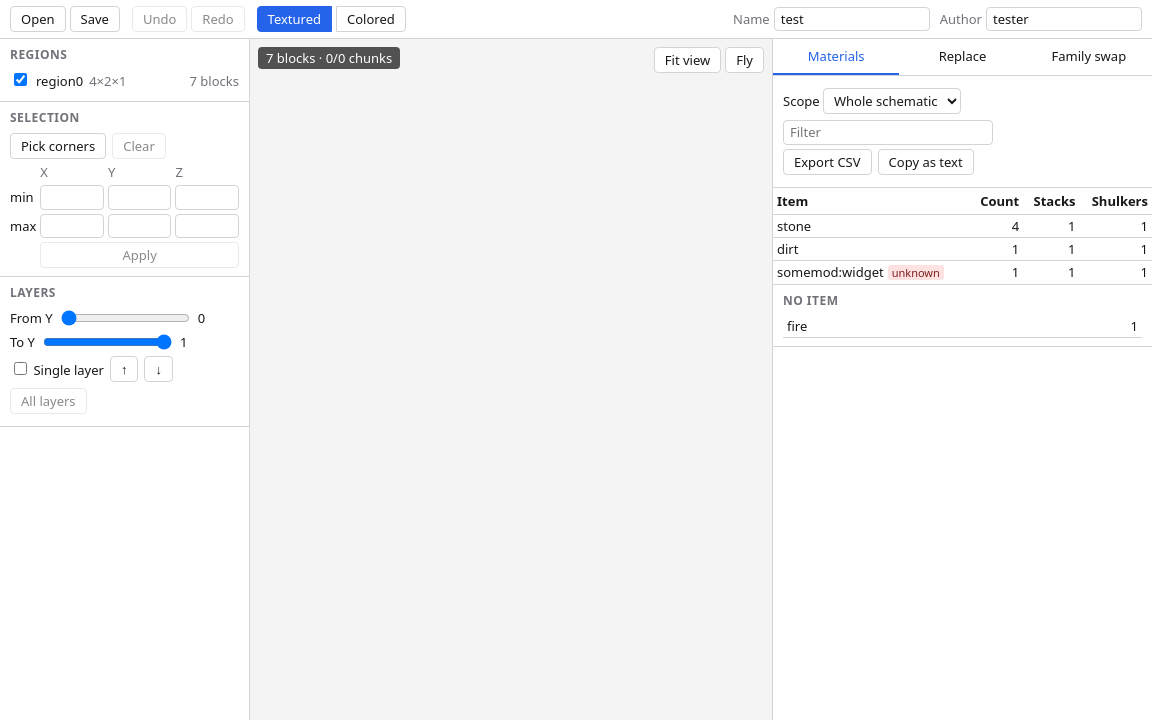
Materials tab › says so when the clipboard is blocked
Step 1. Click the button "Copy as text" → point(926, 162), box 878,149 -> 974,175
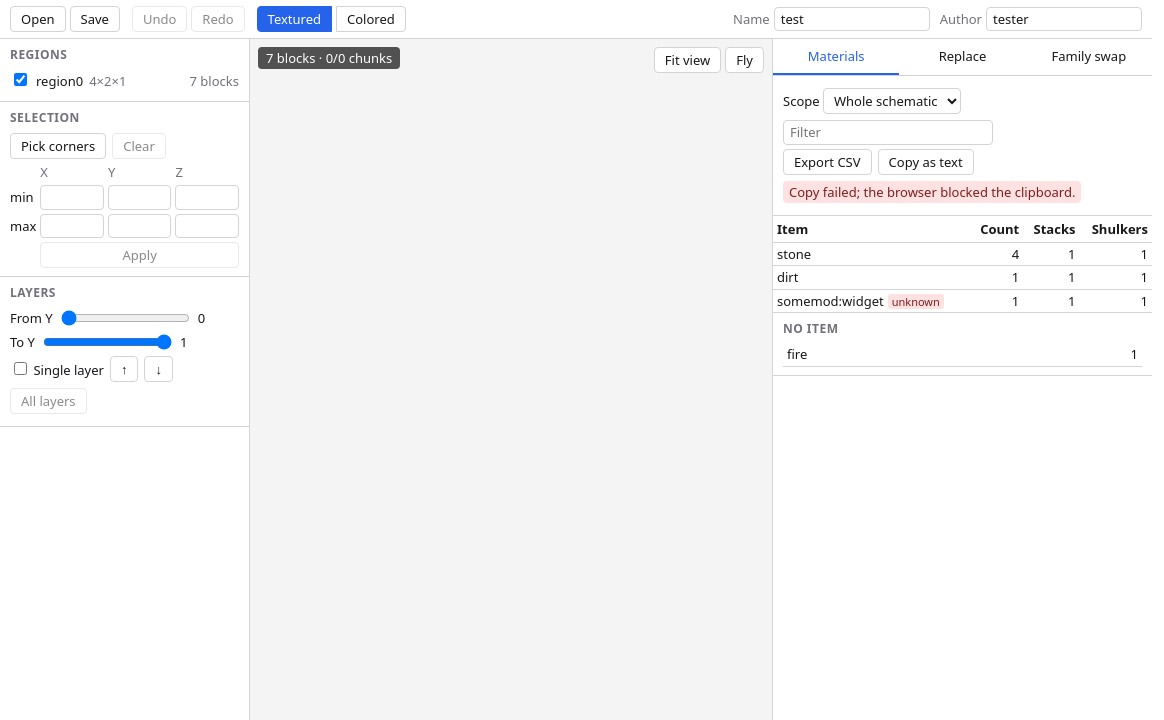
Check: the text "Copy failed; the browser blocked the clipboard." is shown, box 783,181 -> 1081,203
